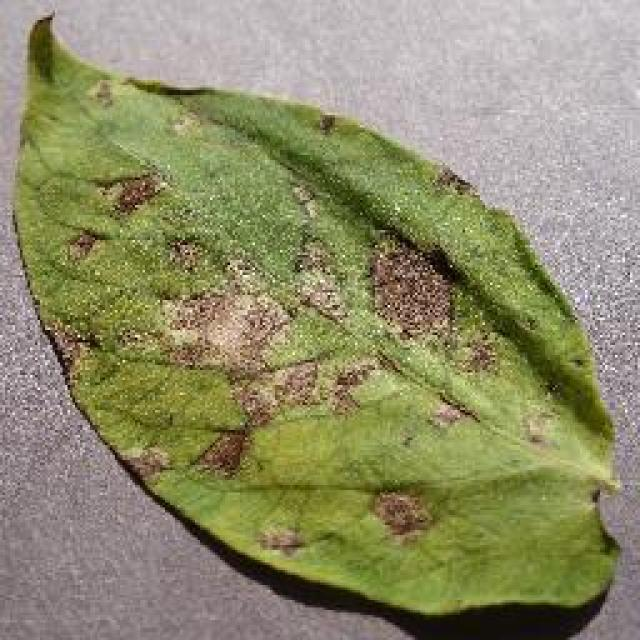early_blight: (8, 10, 622, 628)
